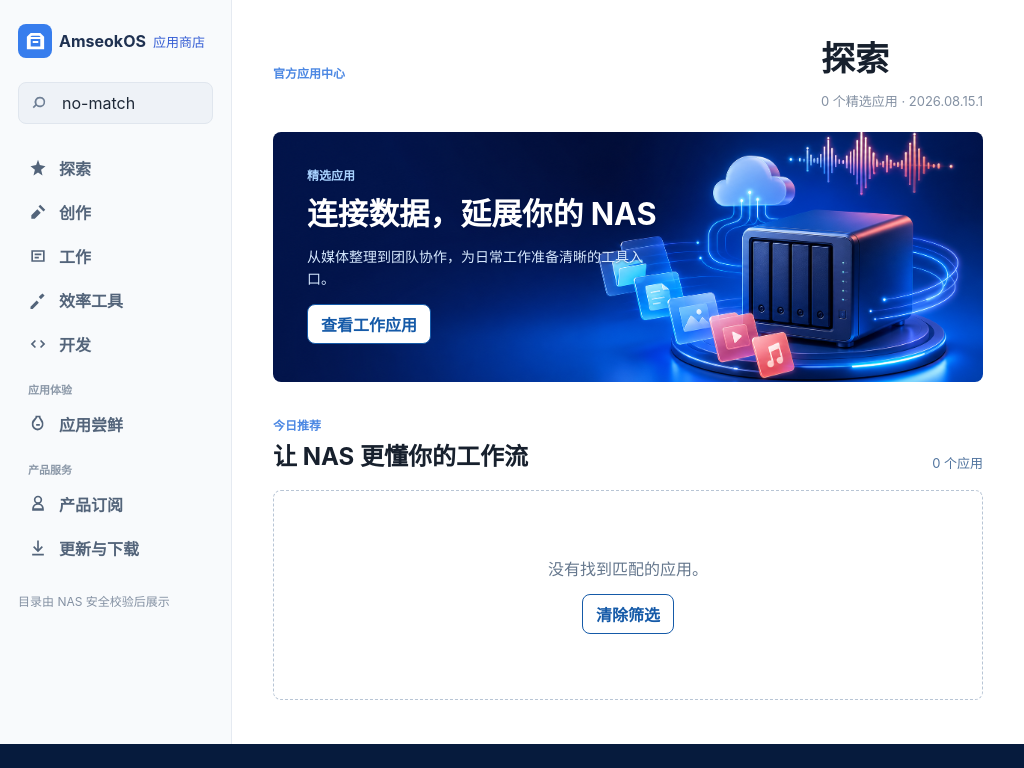
Test: AppStorePageComponent › shows an empty state for unmatched searches and can clear the filters
Click the button "清除筛选" at (628, 614), box [582,594,674,634]
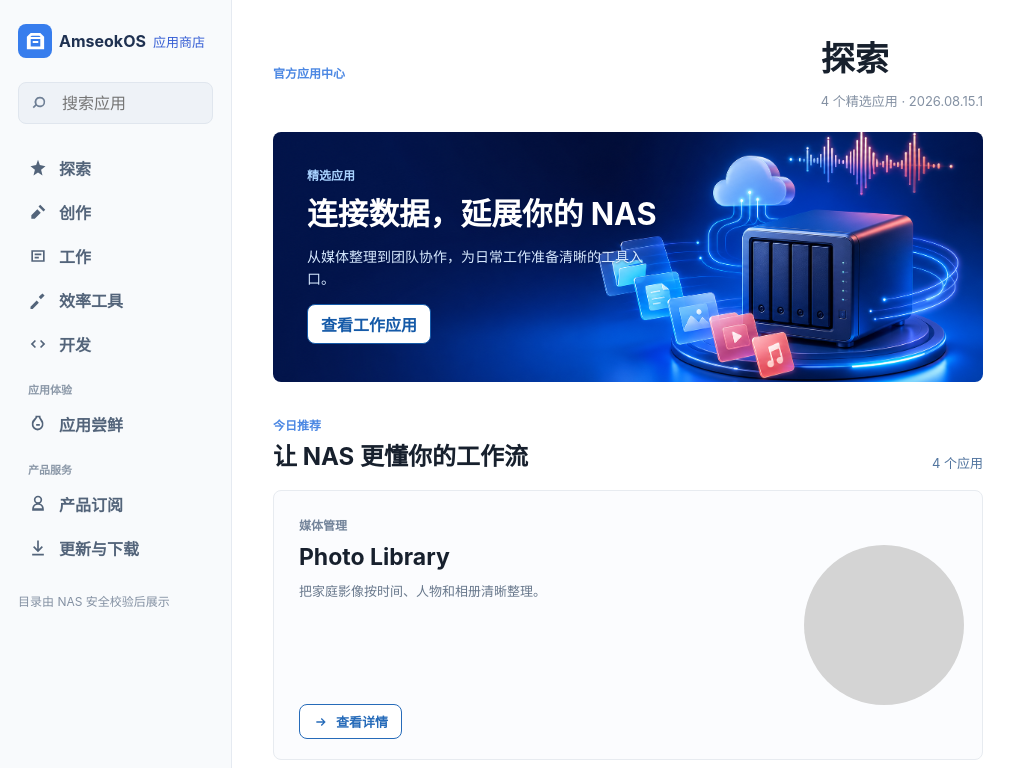
Expected: the number of elements with class "app-store-card" is 4
